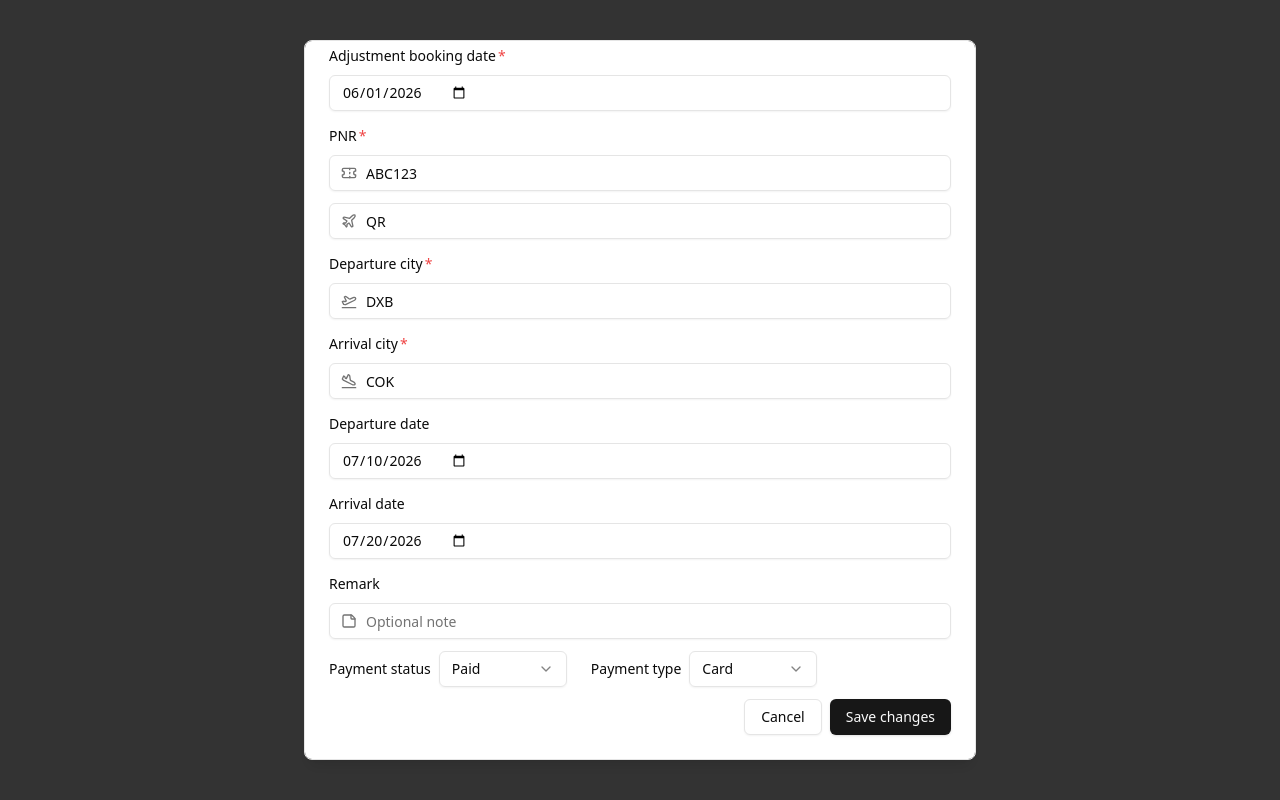
Test: EditAdjustmentDialog › surfaces a backend guard message instead of a generic connection error
This screenshot has width=1280, height=800.
(page scrolled)
Expected: the field showing "ABC123" is shown, [329, 155, 951, 191]
Click the button "Save changes".
click(890, 717)  # box [830, 699, 951, 735]
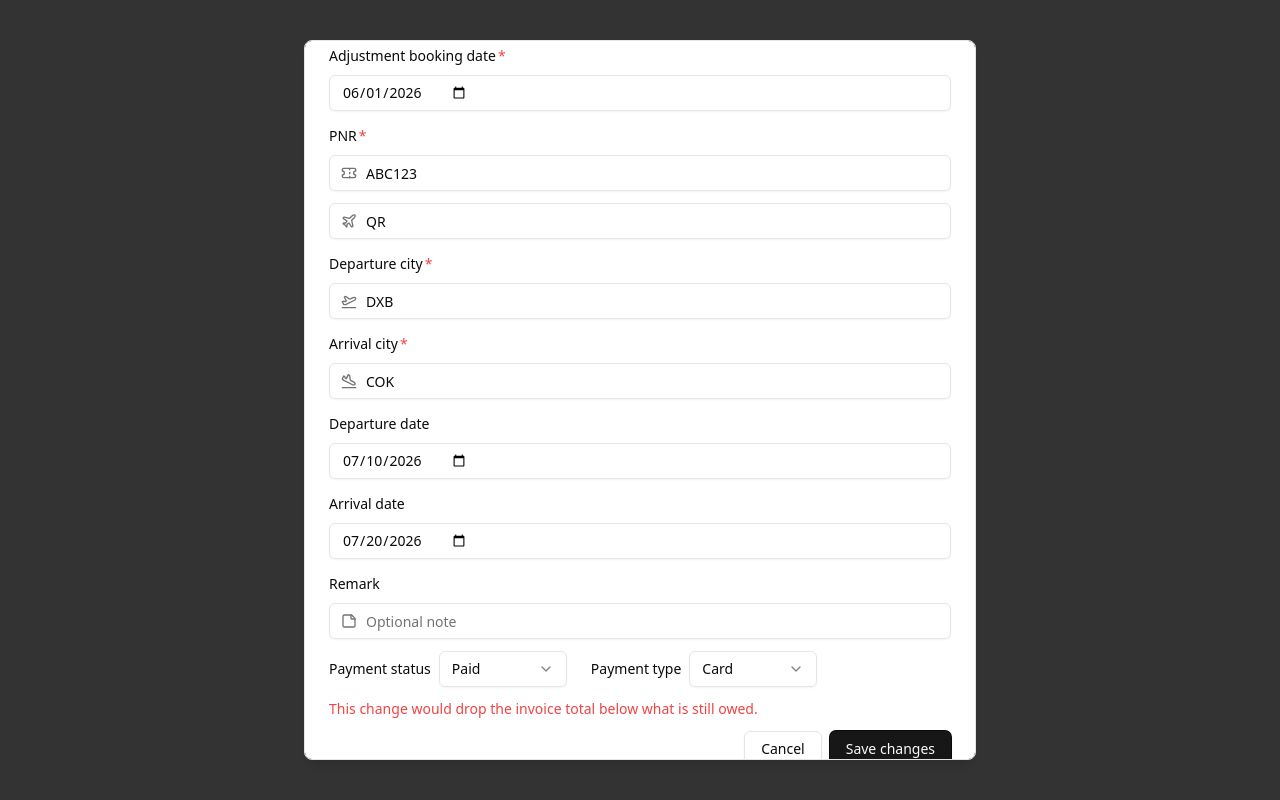
Now the text "This change would drop the invoice total below what is still owed." is shown, box [329, 699, 758, 718]
